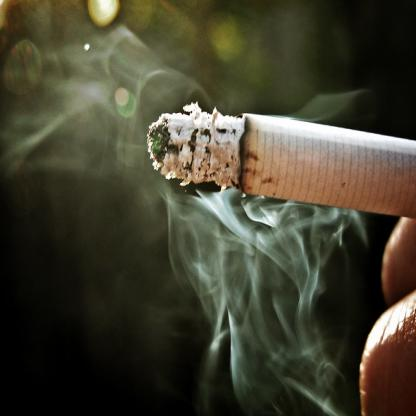smoking: (147, 102, 415, 220)
